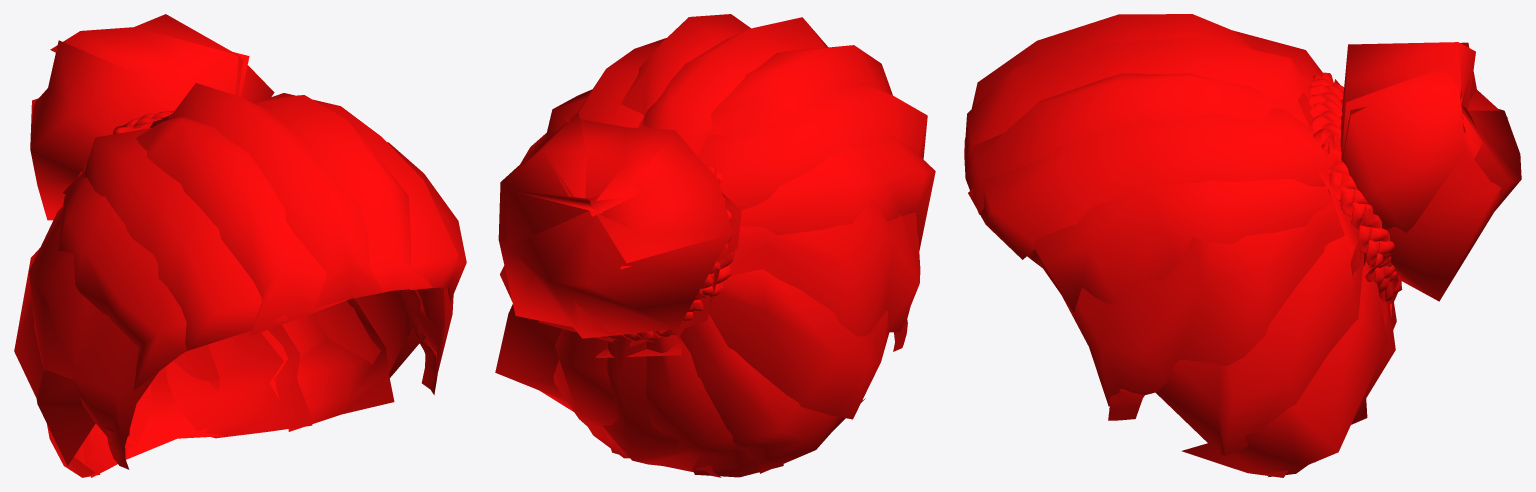
File: grinsegold_wig_bun_blonde_braids_F.glb
3 views of the same model, side by side, from view 1: azimuth 30°, elevation 25°; view 2: azimuth 150°, elevation 25°; view 3: azimuth 270°, elevation 25° (orthographic). The views are drawn at different scales.
Size of the model in its own units: 0.1922 by 0.1882 by 0.2371.
Materials: 1 (1 with a texture image).
